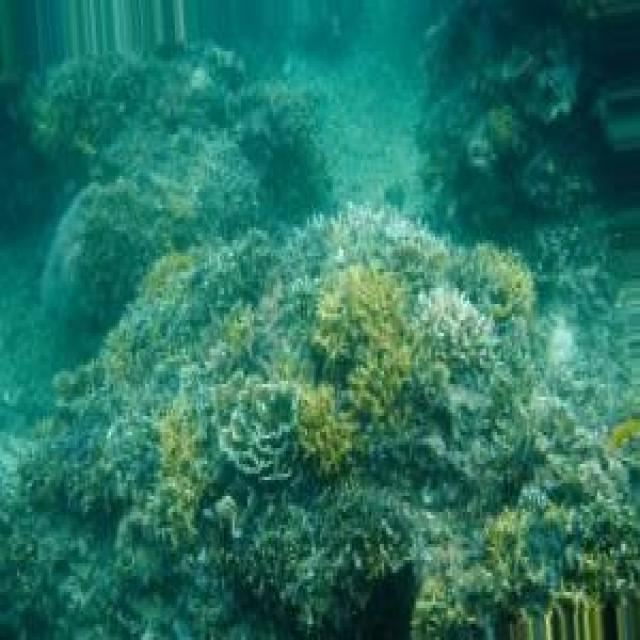healthy coral: (299, 266, 410, 470), (145, 403, 190, 552), (465, 246, 531, 324)
